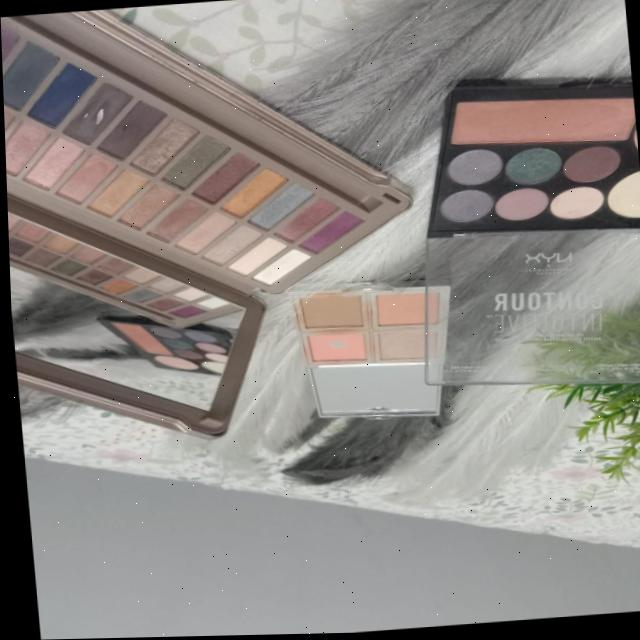eye shade: (0, 0, 281, 307), (423, 87, 638, 235), (271, 146, 399, 276)
highlighter: (310, 284, 447, 373)
